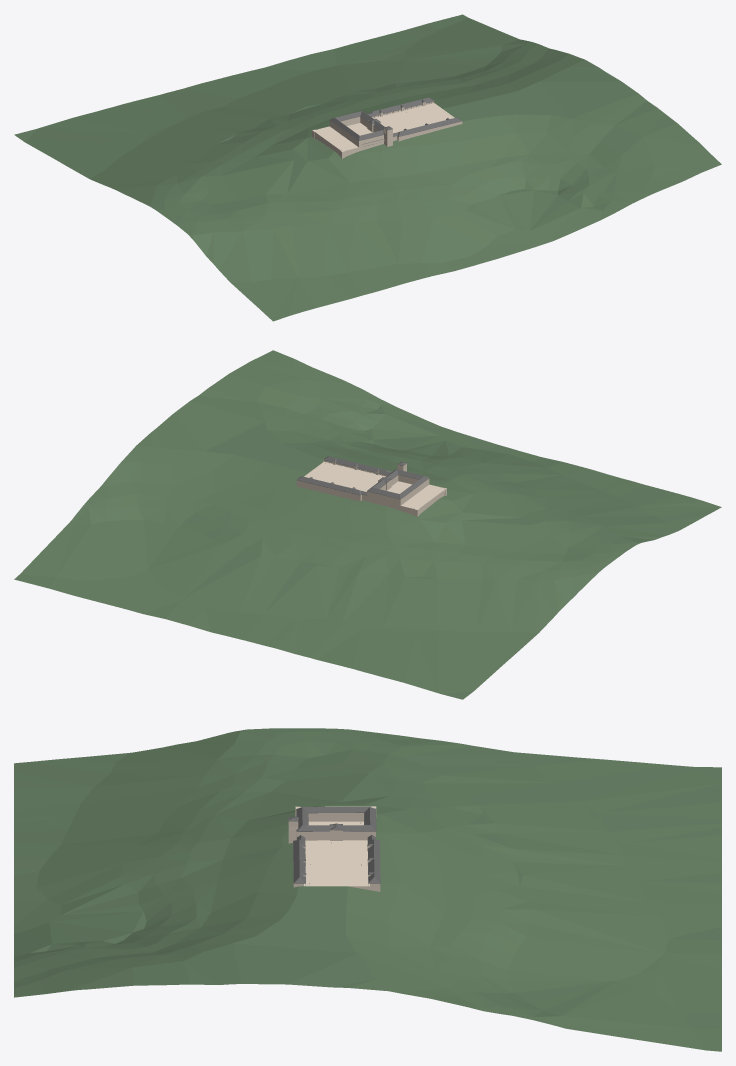
File: BLEND.glb
The picture shows the model from 3 angles, top to bottom: view 1: azimuth 30°, elevation 25°; view 2: azimuth 150°, elevation 25°; view 3: azimuth 270°, elevation 25°; orthographic projection. The views are drawn at different scales.
Parts seen in each view (by area): view 1: VisualSceneNode1.428, VisualSceneNode1.108, VisualSceneNode1.395; view 2: VisualSceneNode1.428, VisualSceneNode1.108; view 3: VisualSceneNode1.428, VisualSceneNode1.108.
Part boxes in pixels (bbox=[...]): VisualSceneNode1.428: bbox=[14, 14, 721, 321]; VisualSceneNode1.108: bbox=[373, 103, 454, 133]; VisualSceneNode1.395: bbox=[312, 126, 358, 151]; VisualSceneNode1.428: bbox=[14, 350, 721, 699]; VisualSceneNode1.108: bbox=[304, 461, 385, 491]; VisualSceneNode1.428: bbox=[14, 728, 721, 1051]; VisualSceneNode1.108: bbox=[304, 840, 369, 886].
Bounding box in the file's own units: 110 × 16.21 × 110.
